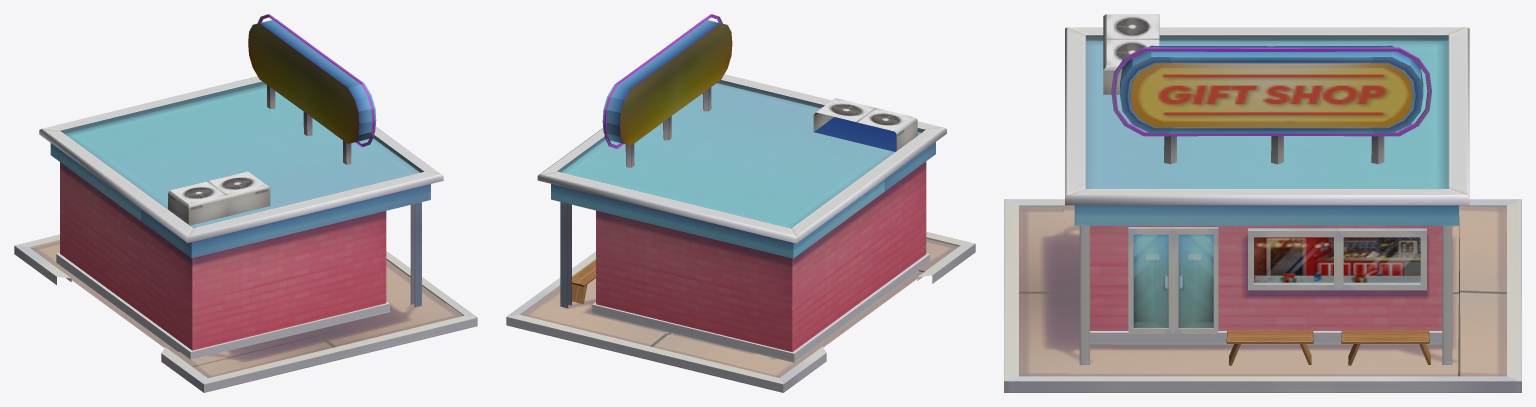
The model's file is Store3.fbx.
3 views of the same model, side by side, from view 1: azimuth 30°, elevation 25°; view 2: azimuth 150°, elevation 25°; view 3: azimuth 270°, elevation 25° (orthographic). The views are drawn at different scales.
Visible parts, largest first — view 1: polySurface1; view 2: polySurface1; view 3: polySurface1.
Boxes of the visible parts, box(x1,y1,x2,y2) form: polySurface1: box(14, 14, 477, 392); polySurface1: box(506, 14, 975, 392); polySurface1: box(1004, 14, 1521, 392).
Bounding box in the file's own units: 513 × 397 × 616.
